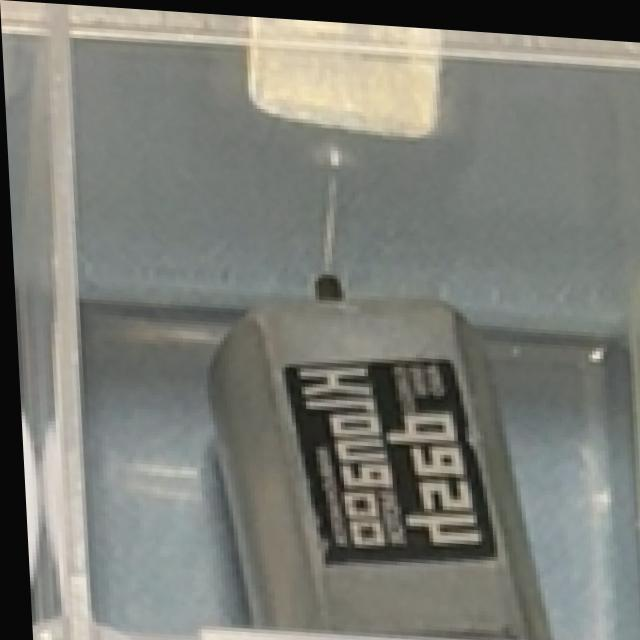Motor: (202, 281, 560, 640)
